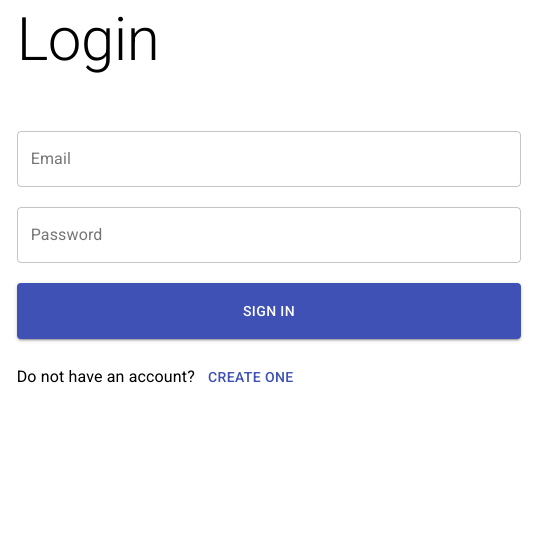
Test case: renders sign up form
What coordinates should you click on to do the following:
click the button "Create one"
I would click on:
 (251, 377)
Its box is [200,359,302,395].
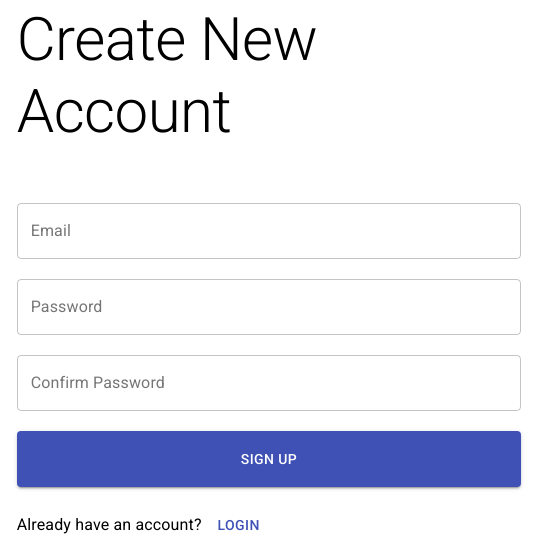
Check: the element with test id "email" is shown, box [17,203,521,259]
Check: the element with test id "confirm-password" is shown, box [17,355,521,411]
Check: the button with test id "sign-up" is shown, box [17,431,521,487]
